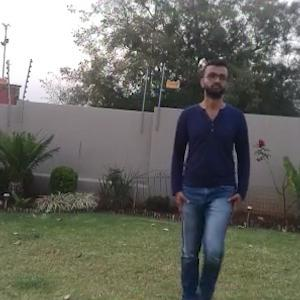follow: (164, 38, 255, 289)
